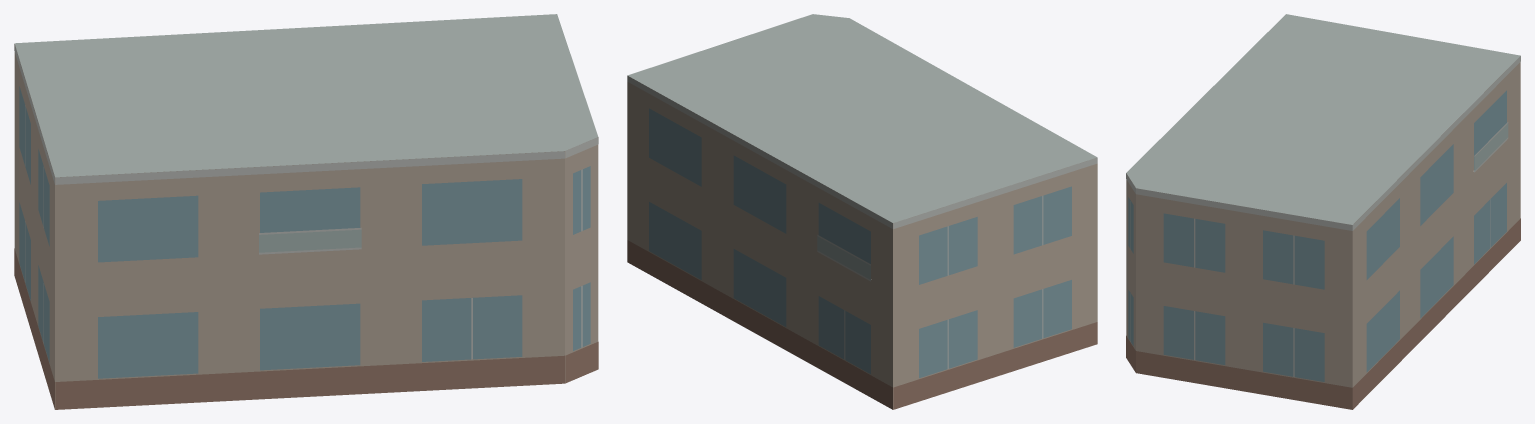
The model's file is survey-upis-32743232.glb.
3 views of the same model, side by side, from view 1: azimuth 30°, elevation 25°; view 2: azimuth 150°, elevation 25°; view 3: azimuth 270°, elevation 25° (orthographic). The views are drawn at different scales.
Parts seen in each view (by area): view 1: survey-upis-32743232.tmp; view 2: survey-upis-32743232.tmp; view 3: survey-upis-32743232.tmp.
Part boxes in pixels (x1,y1,x2,y2): survey-upis-32743232.tmp: (14, 14, 598, 409); survey-upis-32743232.tmp: (627, 14, 1097, 409); survey-upis-32743232.tmp: (1126, 14, 1520, 409).
Bounding box in the file's own units: 18.37 × 7.5 × 14.52.
